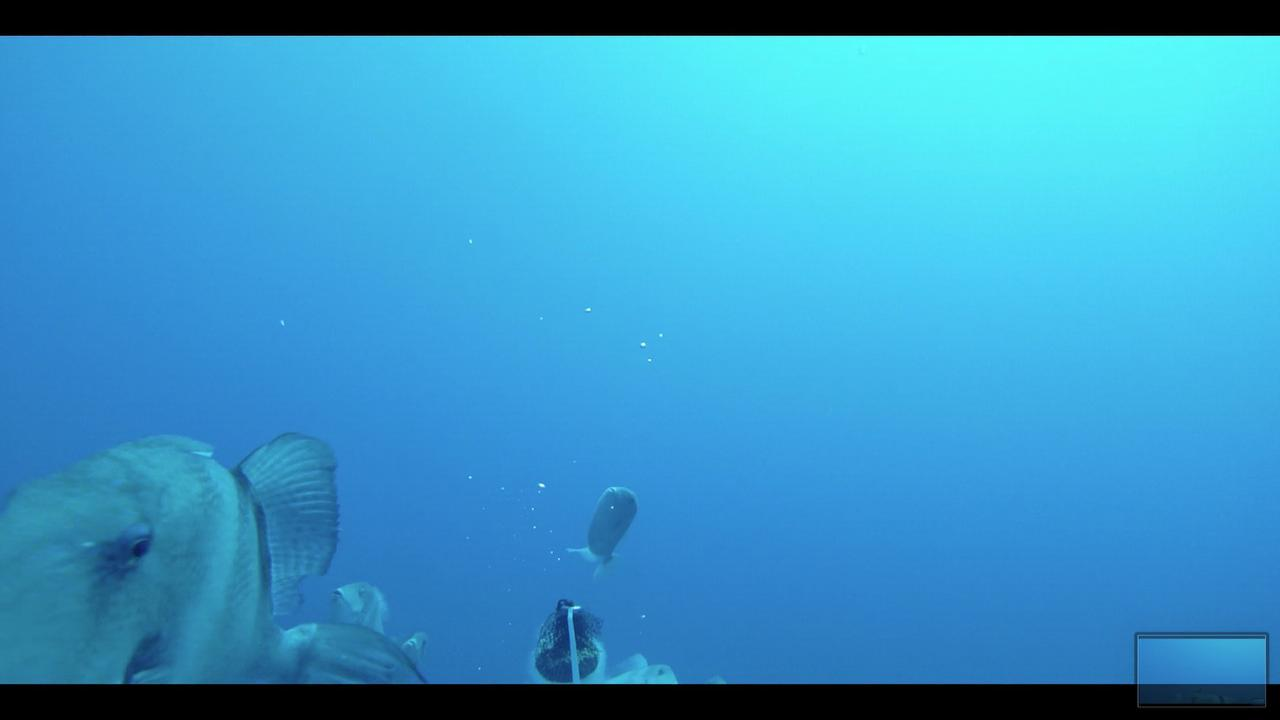balistes: (6, 427, 438, 681), (562, 482, 645, 580)
